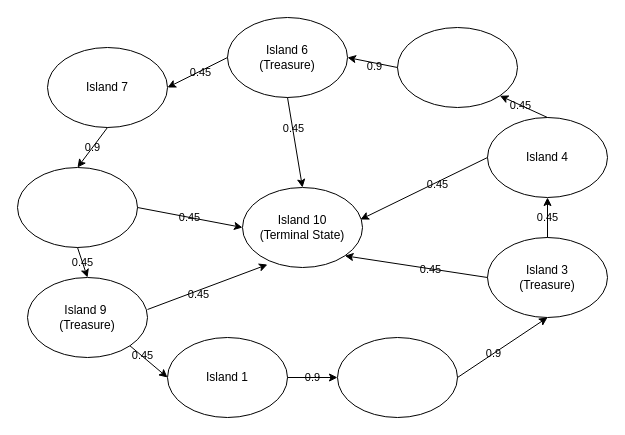
This 625x435 diagram has some shape labels left out. The shapes that lost their labels are listed below. From the top down, each one's centre as x and y in pixels, then its label:
pixel 457 67: Island 5
pixel 77 207: Island 8
pixel 397 377: Island 2
